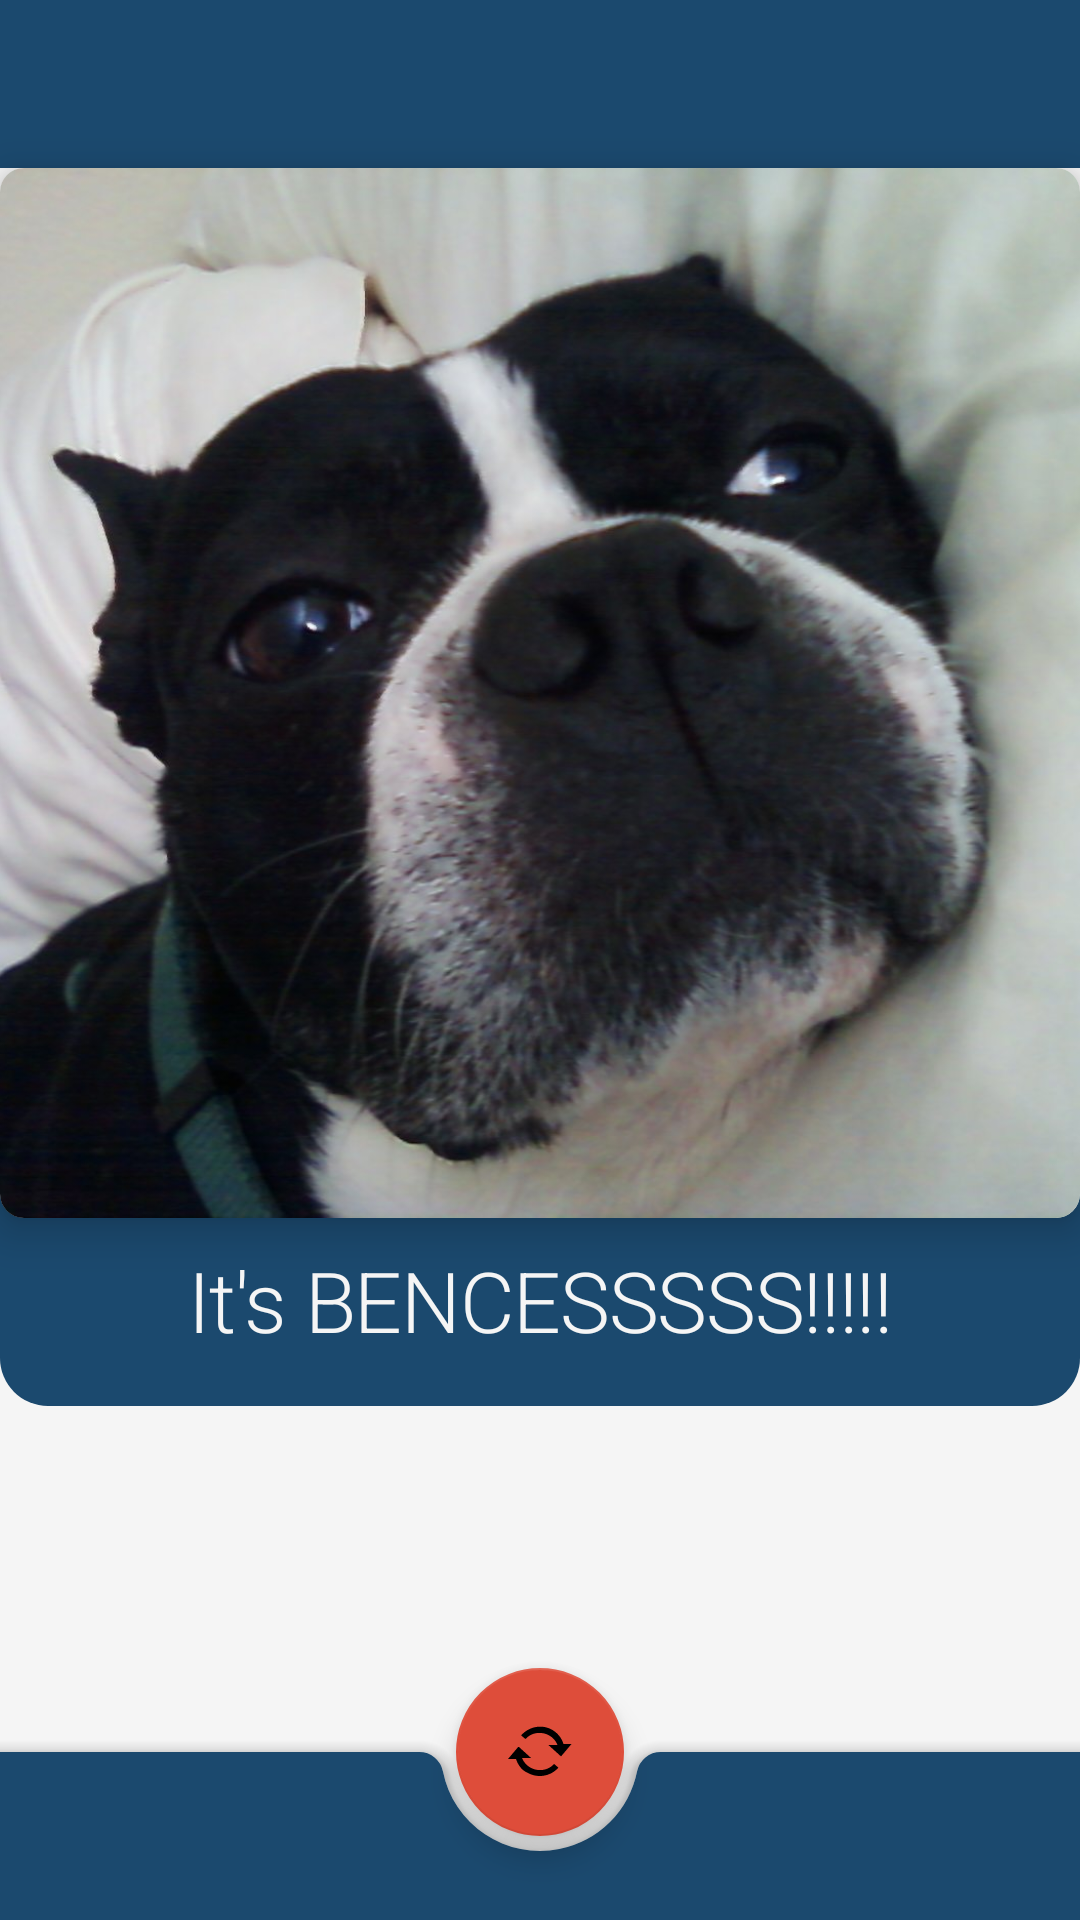

Where to tap for icons on this 1080x1920 app screen, as (x=x, y=y):
sync: (x=540, y=1752)
